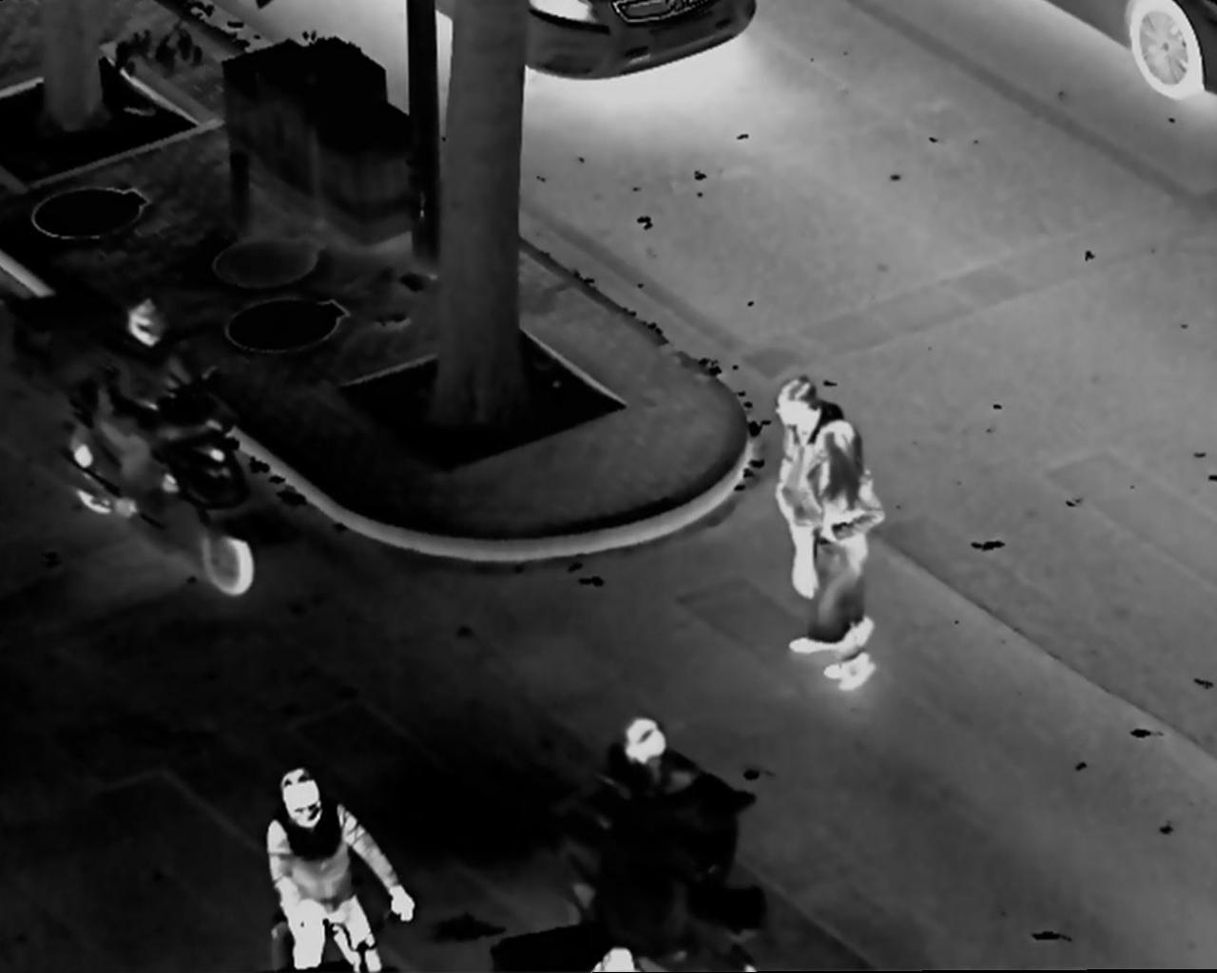person: (763, 362, 874, 653), (261, 763, 414, 973), (92, 295, 230, 512), (802, 411, 890, 696), (618, 716, 725, 925)
